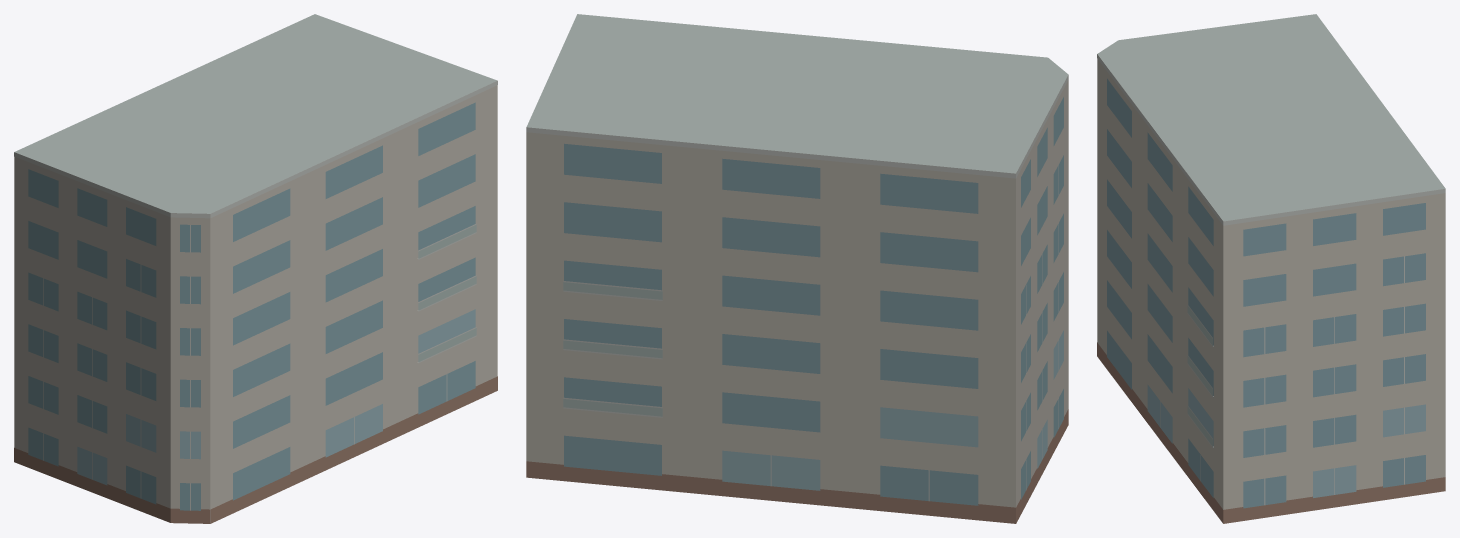
Rendered from survey-upis-32914492.glb.
3 views of the same model, side by side, from view 1: azimuth 30°, elevation 25°; view 2: azimuth 150°, elevation 25°; view 3: azimuth 270°, elevation 25° (orthographic). The views are drawn at different scales.
Parts seen in each view (by area): view 1: survey-upis-32914492.tmp; view 2: survey-upis-32914492.tmp; view 3: survey-upis-32914492.tmp.
Boxes of the visible parts, <box> form: survey-upis-32914492.tmp: <box>14,14,497,523</box>; survey-upis-32914492.tmp: <box>526,14,1068,523</box>; survey-upis-32914492.tmp: <box>1097,14,1445,523</box>.
Bounding box in the file's own units: 25.32 × 17.2 × 17.98.
